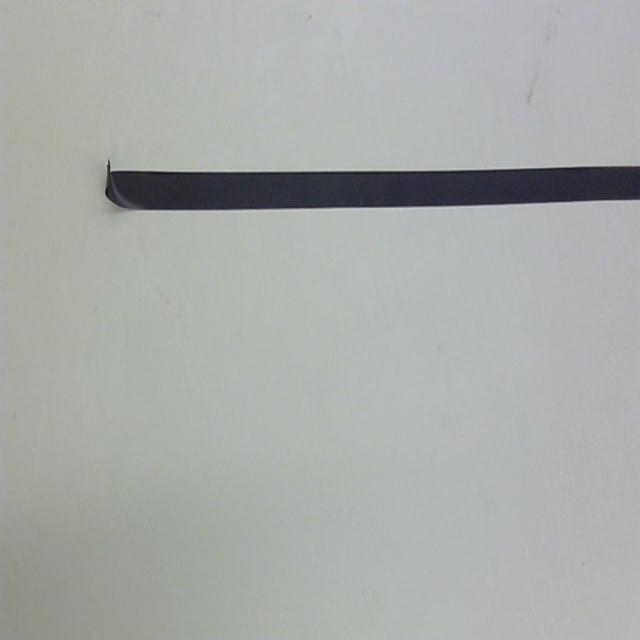tape: (83, 141, 640, 244)
